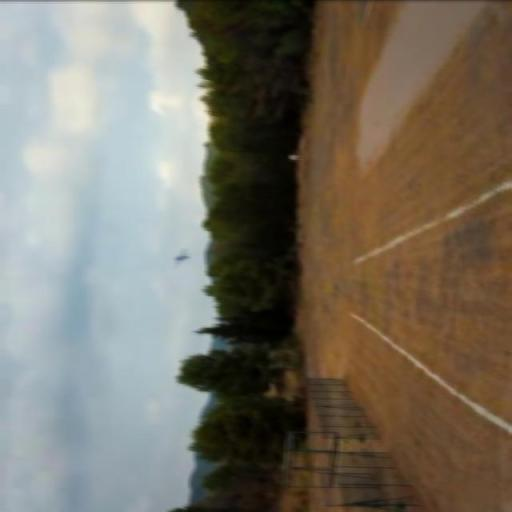uav: (170, 247, 194, 267)
